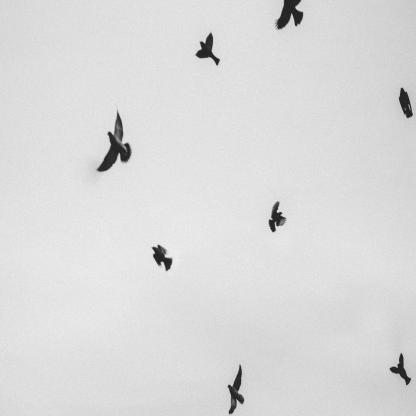bird: (96, 106, 132, 173), (276, 0, 304, 30), (196, 32, 220, 65), (228, 365, 244, 414), (390, 352, 412, 386), (151, 244, 173, 272), (269, 201, 287, 232), (399, 88, 413, 118)
